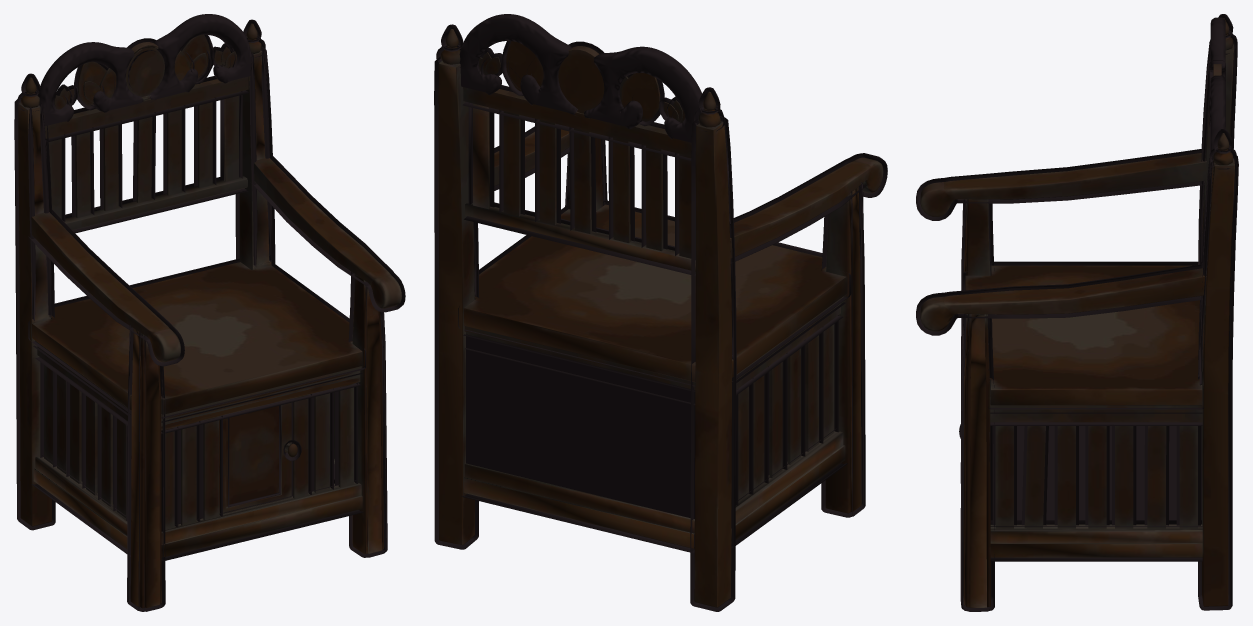
Rendered from SM_Int_CafeChair.fbx.
The picture shows the model from 3 angles, left to right: view 1: azimuth 30°, elevation 25°; view 2: azimuth 150°, elevation 25°; view 3: azimuth 270°, elevation 25°; orthographic projection. The views are drawn at different scales.
Visible parts, largest first — view 1: SM_Int_CafeChair; view 2: SM_Int_CafeChair; view 3: SM_Int_CafeChair.
Boxes of the visible parts, x1,y1,x2,y2 form: SM_Int_CafeChair: (14, 14, 405, 611); SM_Int_CafeChair: (434, 14, 887, 611); SM_Int_CafeChair: (916, 14, 1238, 611).
Size of what is drawn, in the model's own units: 0.5948 by 1.05 by 0.6192.
